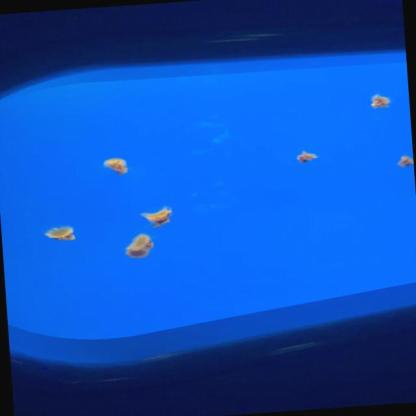jellyfish: (140, 206, 174, 230), (124, 232, 154, 259), (44, 223, 78, 242), (101, 157, 129, 176), (368, 92, 392, 108), (294, 150, 318, 165), (396, 154, 413, 170)
